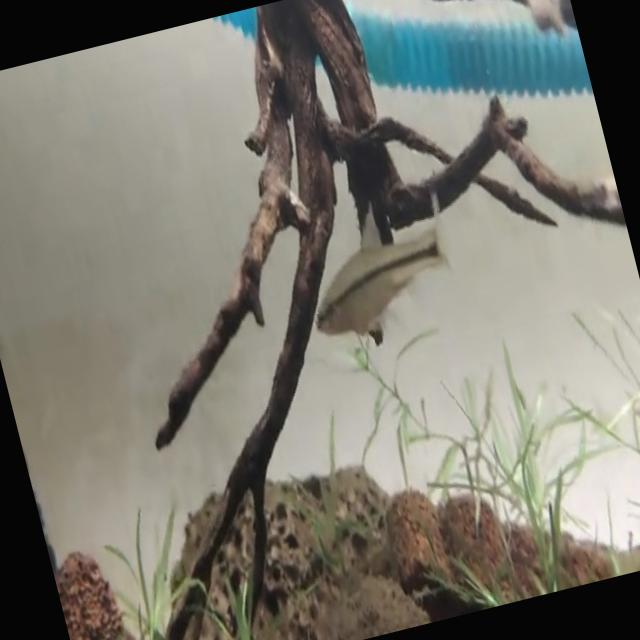Cakil Baligi: (290, 178, 469, 348)
